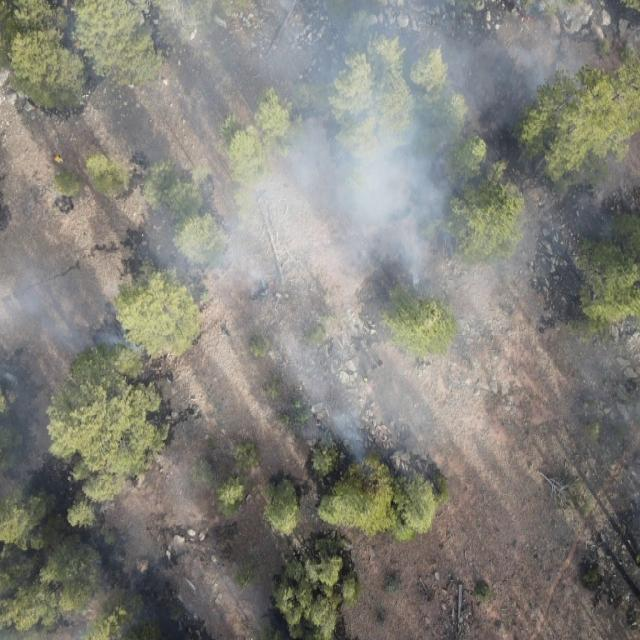fire: (519, 13, 536, 25), (70, 40, 81, 52)
smoke: (121, 0, 550, 472), (540, 0, 640, 219), (0, 249, 154, 383)
